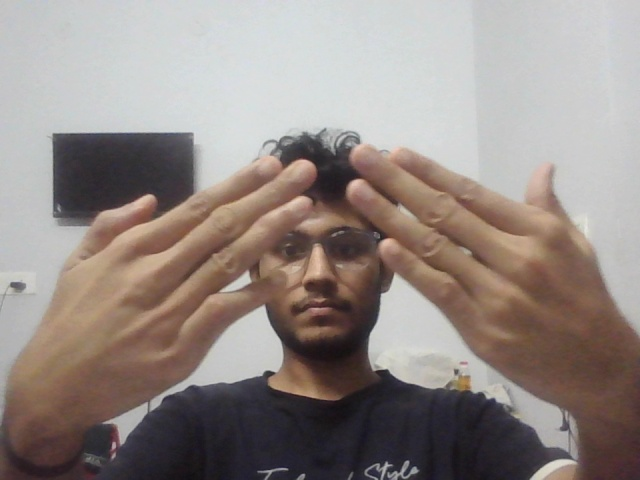Thanks: (22, 100, 640, 432)
